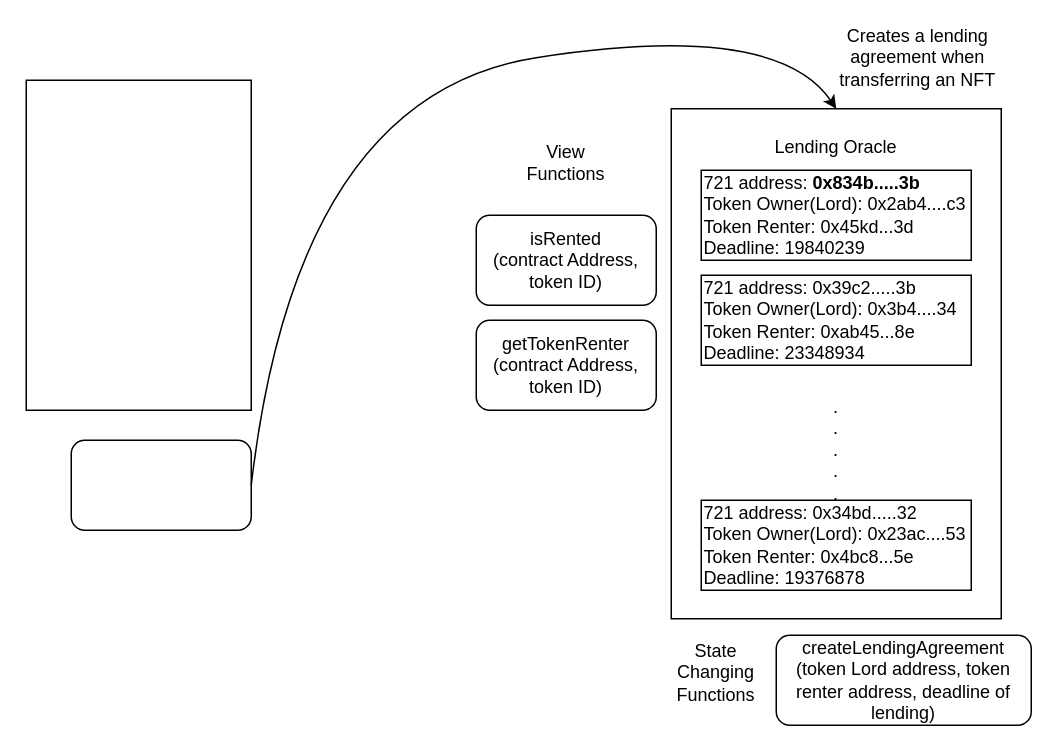
Image size: 1058x752. Some labels were removed from this diagram. The shapes that lost their labels are listed below. From the top down, each one's centre as x and y in pixels, then its label:
At (138,244): "ERC 721 ( 0x834b.....3b) Token IDs: 1 2 3 4 5 . . . 10000".
At (160,484): "transfer(to, tokenID)".
